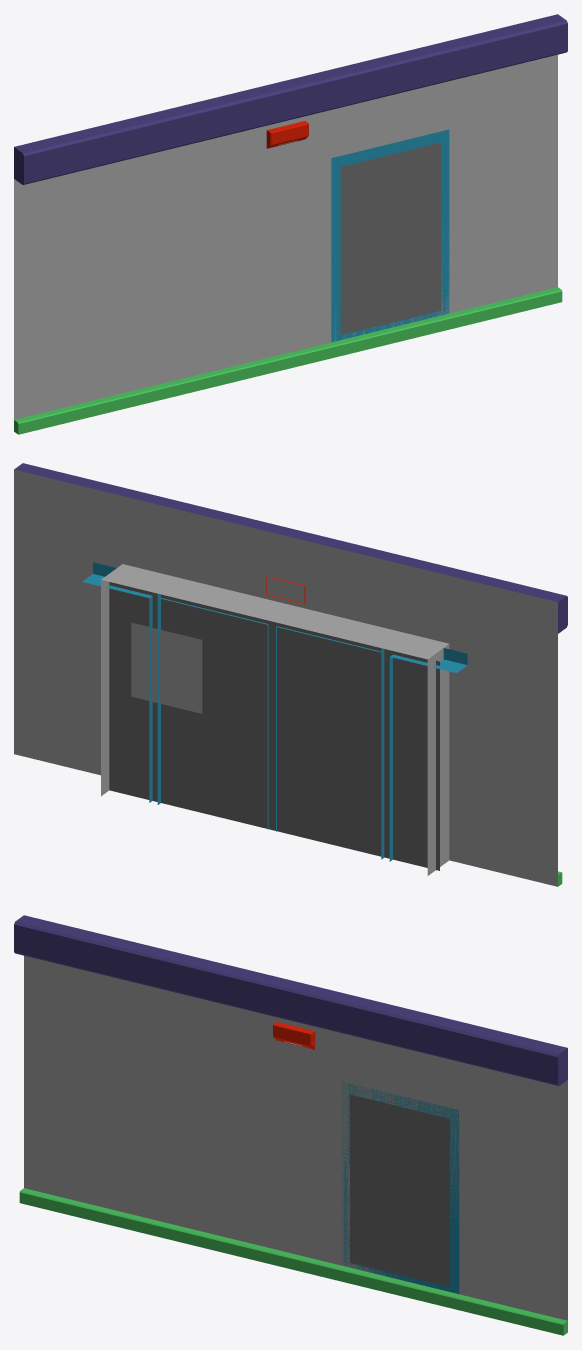
Rendered from bGround.fbx.
3 renders of one model, top to bottom at view 1: azimuth 30°, elevation 25°; view 2: azimuth 150°, elevation 25°; view 3: azimuth 330°, elevation 25°, orthographic.
Parts seen in each view (by area): view 1: lod0 (×3); view 2: lod0 (×3), decal; view 3: lod0 (×3).
Part boxes in pixels (bbox=[...]): lod0 (×3): bbox=[14, 14, 567, 434]; lod0 (×3): bbox=[14, 463, 567, 886]; decal: bbox=[131, 622, 202, 713]; lod0 (×3): bbox=[14, 915, 567, 1335].
Size of what is drawn, in the model's own units: 6 by 3 by 0.6029.
